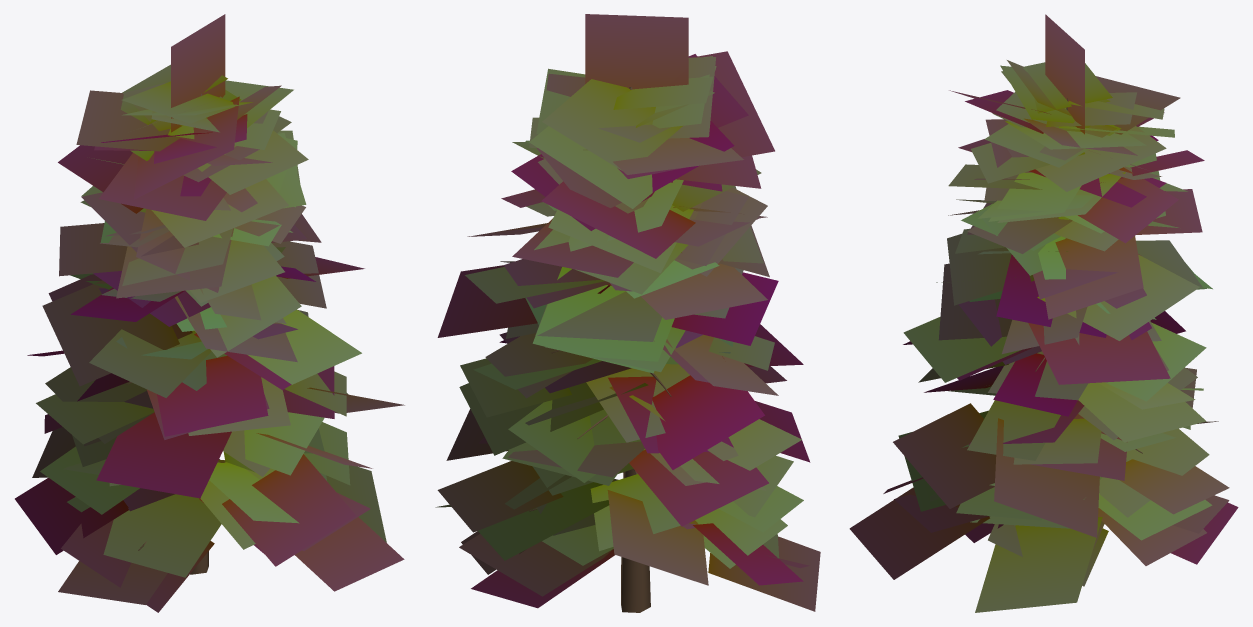
Rendered from tree_pine_far.glb.
The picture shows the model from 3 angles, left to right: view 1: azimuth 30°, elevation 25°; view 2: azimuth 150°, elevation 25°; view 3: azimuth 270°, elevation 25°; orthographic projection. The views are drawn at different scales.
Visible parts, largest first — view 1: Leaves; view 2: Leaves, Trunk; view 3: Leaves.
Boxes of the visible parts, x1,y1,x2,y2 form: Leaves: (15,14,404,612); Leaves: (435,14,820,611); Trunk: (529,87,671,612); Leaves: (849,14,1238,612).
Bounding box in the file's own units: 6.48 × 10.11 × 6.67.
